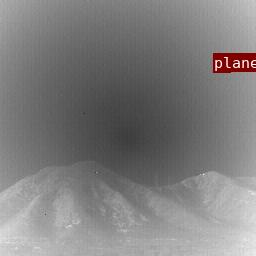plane: (213, 53, 230, 72)
